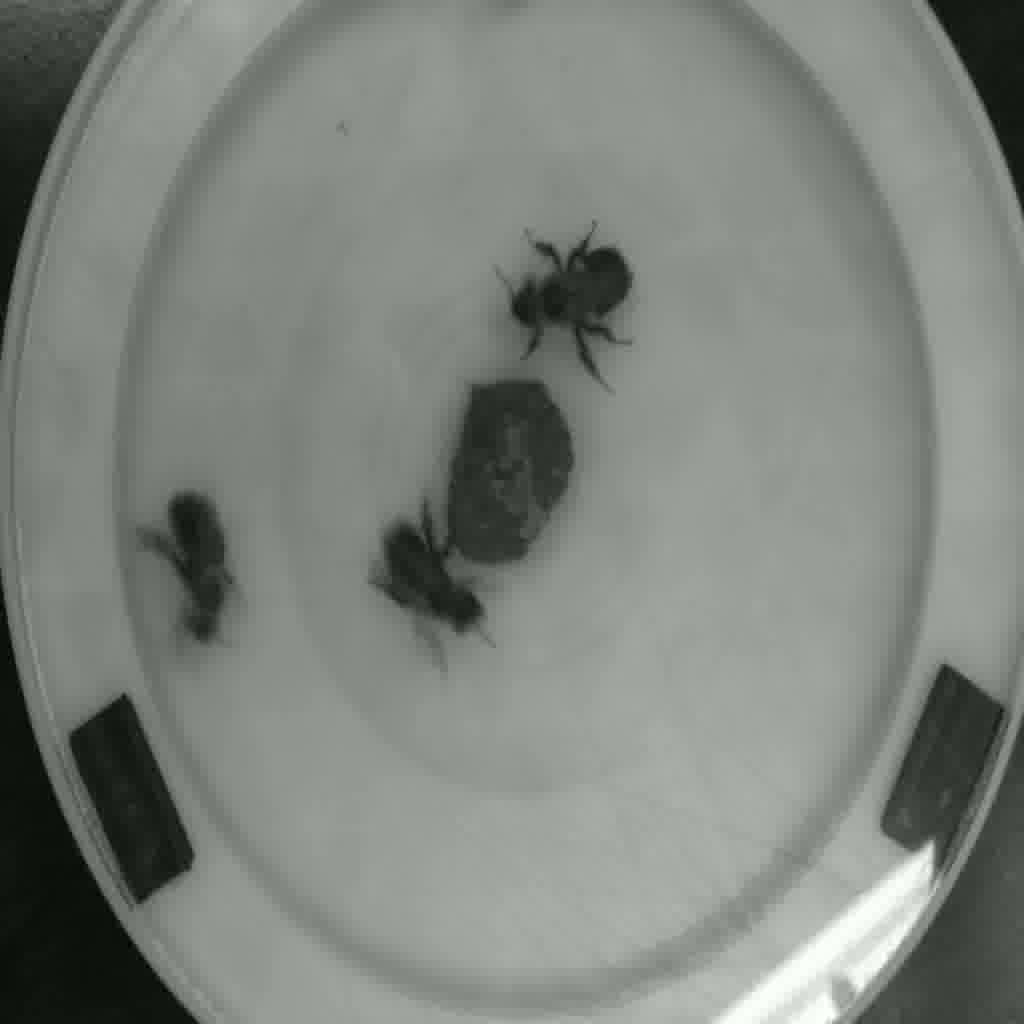bee: (359, 519, 503, 665), (505, 226, 638, 376), (148, 490, 247, 658)
